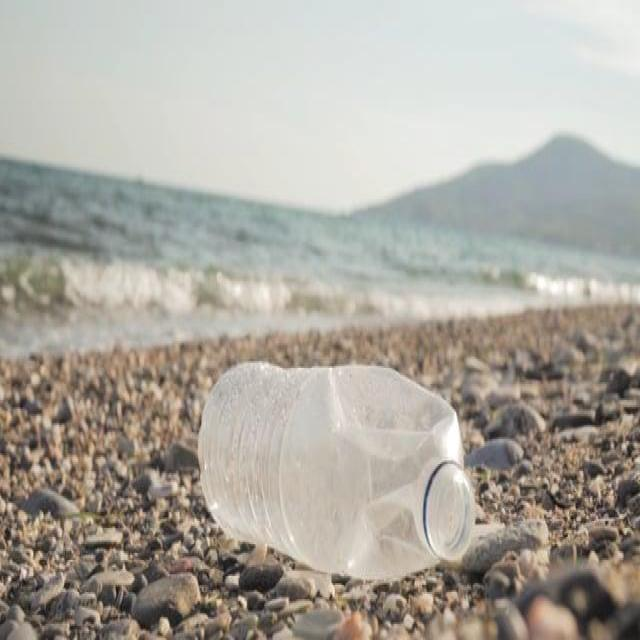bottle: (179, 344, 492, 596)
